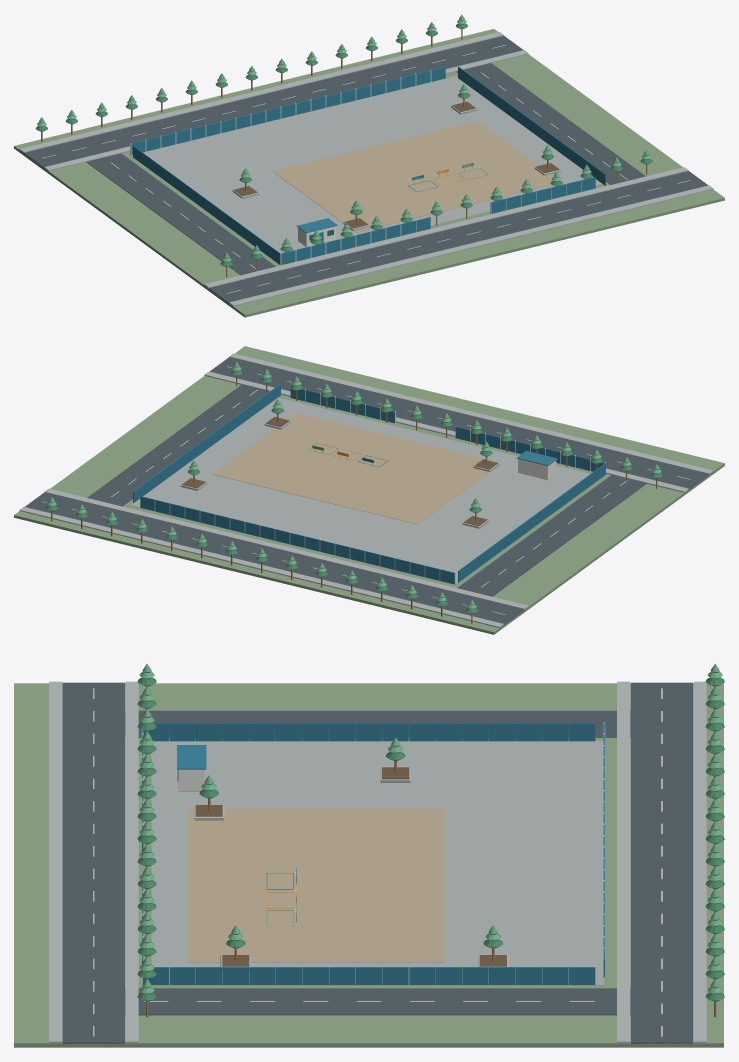
File: site-environment.glb
3 renders of one model, top to bottom at view 1: azimuth 30°, elevation 25°; view 2: azimuth 150°, elevation 25°; view 3: azimuth 270°, elevation 25°, orthographic. The views are drawn at different scales.
Visible parts, largest first — view 1: SitePaving, Terrain, WorkYard, PublicRoad, PublicRoad.001, SideRoad, SideRoad.001, Sidewalk, Sidewalk.003, Sidewalk.001, Sidewalk.002; view 2: Terrain, SitePaving, WorkYard, PublicRoad.001, PublicRoad, SideRoad, SideRoad.001, Sidewalk.003, Sidewalk, Sidewalk.002, Sidewalk.001, OfficeBody; view 3: SitePaving, Terrain, WorkYard, PublicRoad, PublicRoad.001, SideRoad.001, SideRoad, Sidewalk, Sidewalk.002, Sidewalk.003, Sidewalk.001, OfficeRoof.
Part boxes in pixels (x1=…): SitePaving: x1=130, y1=76, x2=601, y2=253; Terrain: x1=14, y1=29, x2=724, y2=317; WorkYard: x1=272, y1=121, x2=553, y2=232; PublicRoad: x1=209, y1=171, x2=708, y2=302; PublicRoad.001: x1=24, y1=36, x2=523, y2=167; SideRoad: x1=86, y1=153, x2=280, y2=278; SideRoad.001: x1=456, y1=63, x2=649, y2=187; Sidewalk: x1=229, y1=185, x2=713, y2=306; Sidewalk.003: x1=19, y1=32, x2=503, y2=152; Sidewalk.001: x1=204, y1=167, x2=688, y2=288; Sidewalk.002: x1=44, y1=50, x2=528, y2=171; Terrain: x1=14, y1=346, x2=724, y2=634; SitePaving: x1=130, y1=397, x2=590, y2=584; WorkYard: x1=212, y1=413, x2=500, y2=524; PublicRoad.001: x1=25, y1=492, x2=523, y2=624; PublicRoad: x1=210, y1=357, x2=708, y2=489; SideRoad: x1=454, y1=475, x2=646, y2=599; SideRoad.001: x1=84, y1=384, x2=269, y2=509; Sidewalk.003: x1=19, y1=507, x2=503, y2=627; Sidewalk: x1=229, y1=353, x2=713, y2=474; Sidewalk.002: x1=44, y1=488, x2=528, y2=609; Sidewalk.001: x1=204, y1=371, x2=688, y2=492; OfficeBody: x1=518, y1=459, x2=556, y2=479; SitePaving: x1=151, y1=741, x2=604, y2=985; Terrain: x1=14, y1=683, x2=723, y2=1047; WorkYard: x1=187, y1=808, x2=444, y2=962; PublicRoad: x1=62, y1=682, x2=124, y2=1043; PublicRoad.001: x1=631, y1=682, x2=692, y2=1043; SideRoad.001: x1=125, y1=988, x2=630, y2=1015; SideRoad: x1=125, y1=710, x2=630, y2=737; Sidewalk: x1=49, y1=681, x2=62, y2=1043; Sidewalk.002: x1=617, y1=681, x2=630, y2=1043; Sidewalk.003: x1=693, y1=681, x2=706, y2=1043; Sidewalk.001: x1=125, y1=681, x2=138, y2=1043; OfficeRoof: x1=177, y1=745, x2=206, y2=769.
Bounding box in the file's own units: 96 × 5.45 × 80.1.
